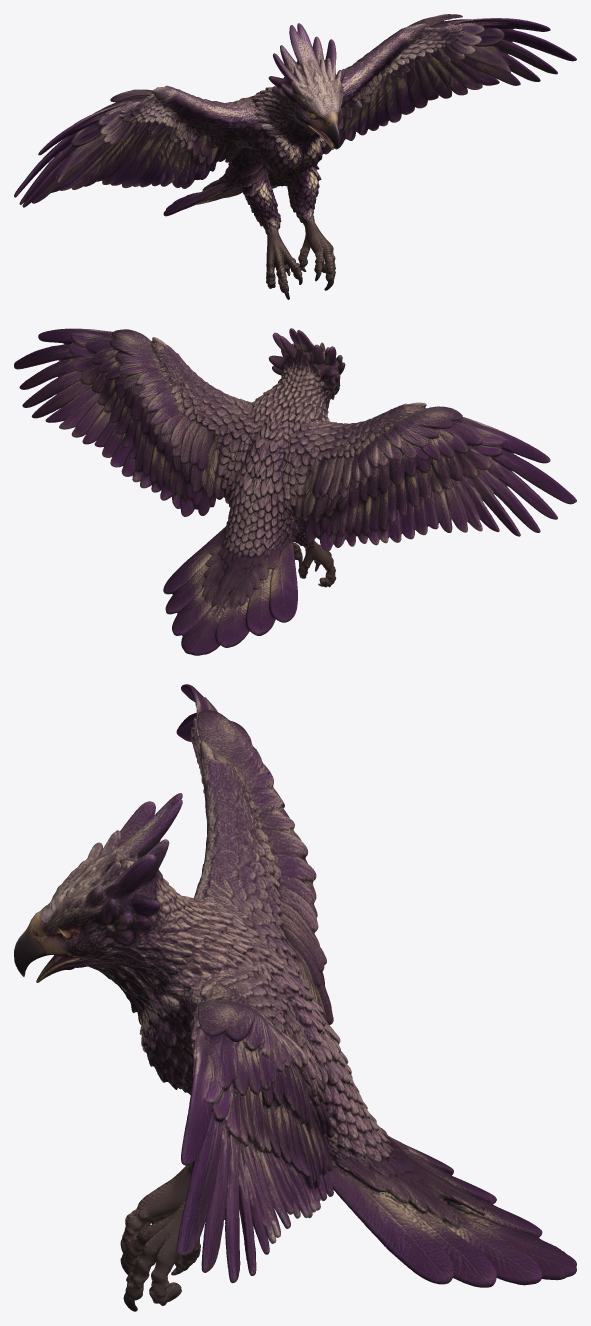
The model's file is Meshy_AI_ziz_0310034602_texture.glb.
3 views of the same model, one above another, from view 1: azimuth 30°, elevation 25°; view 2: azimuth 150°, elevation 25°; view 3: azimuth 270°, elevation 25° (orthographic). The views are drawn at different scales.
Size of the model in its own units: 1.9 by 0.8468 by 0.8675.
1 material, 1 textured.
